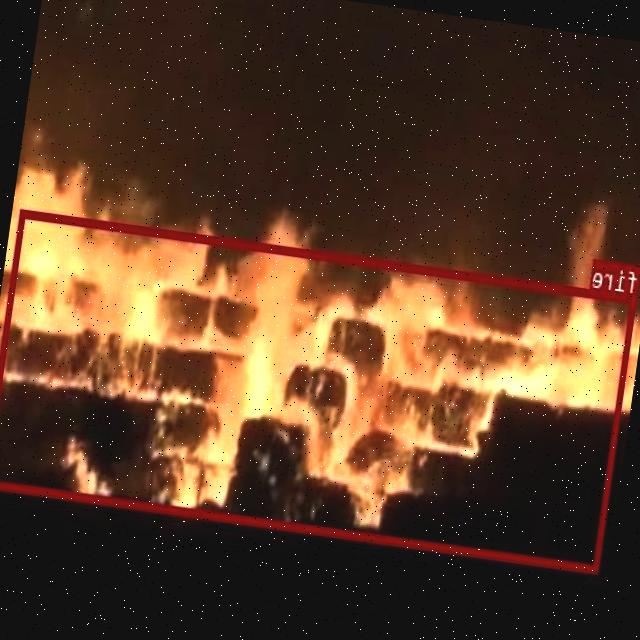fire: (0, 209, 638, 573)
